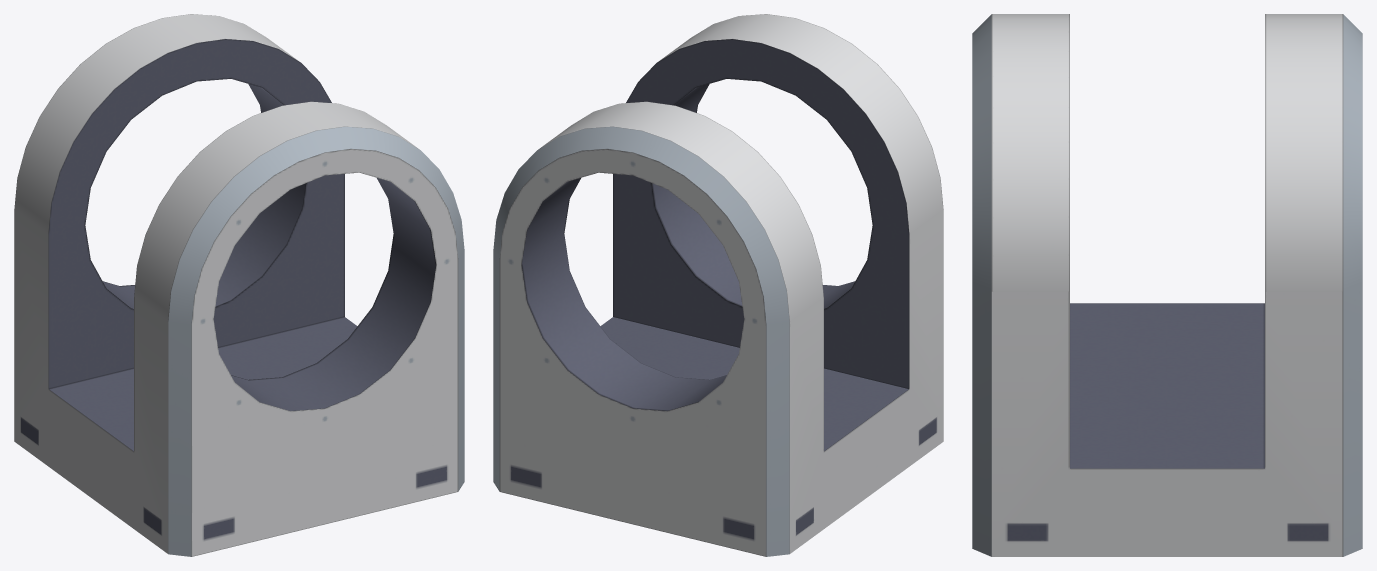
The model's file is Radar_Part_03_B.FBX.
3 views of the same model, side by side, from view 1: azimuth 30°, elevation 25°; view 2: azimuth 150°, elevation 25°; view 3: azimuth 270°, elevation 25° (orthographic). The views are drawn at different scales.
Parts seen in each view (by area): view 1: Radar_Part_03_B; view 2: Radar_Part_03_B; view 3: Radar_Part_03_B.
Boxes of the visible parts, left/top/right/bottom form: Radar_Part_03_B: left=14, top=14, right=464, bottom=556; Radar_Part_03_B: left=493, top=14, right=943, bottom=556; Radar_Part_03_B: left=972, top=14, right=1362, bottom=556.
Size of the model in its own units: 2 by 2.5 by 2.
3 materials, 3 textured.
